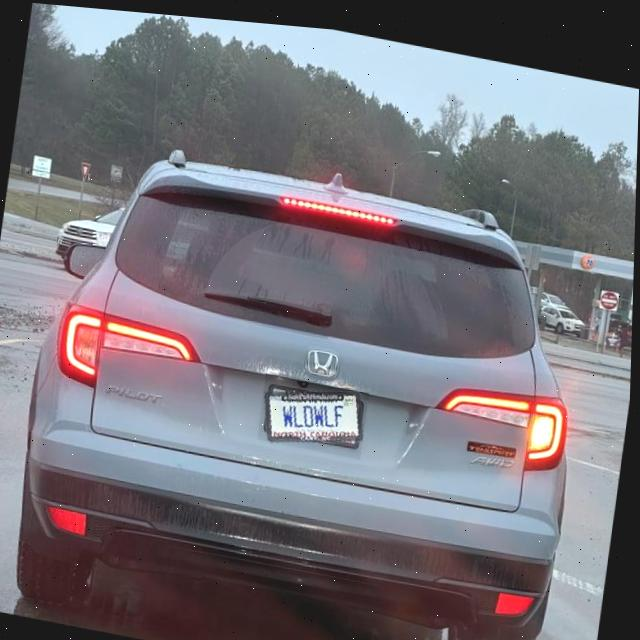LicensePlate: (266, 385, 365, 437)
